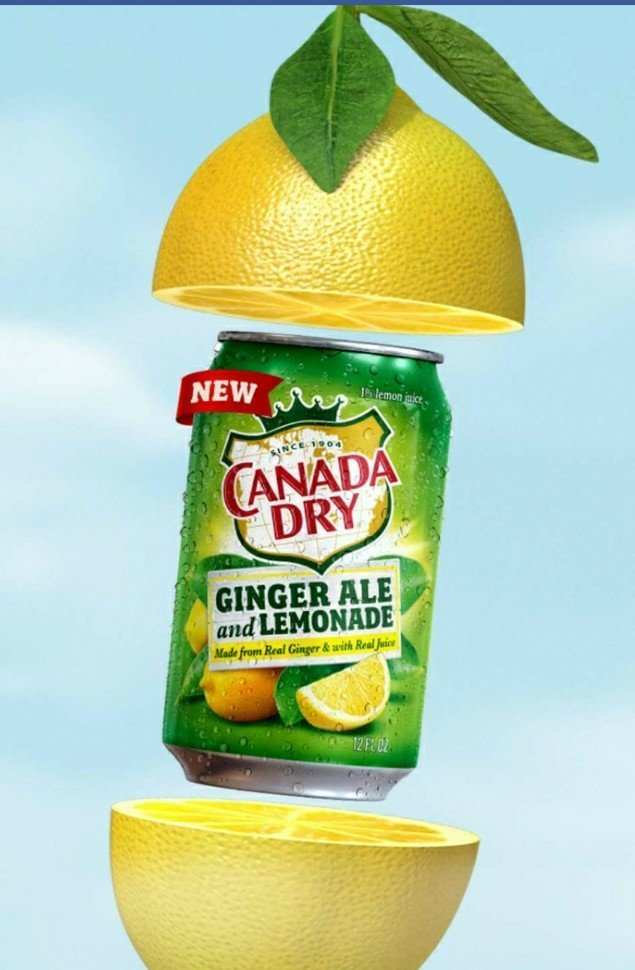Lata: (161, 322, 458, 810)
